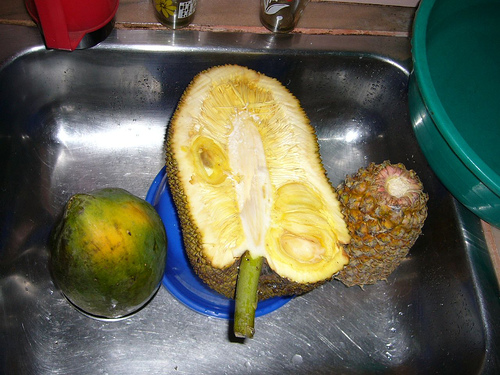jackfruit: (163, 64, 352, 337)
